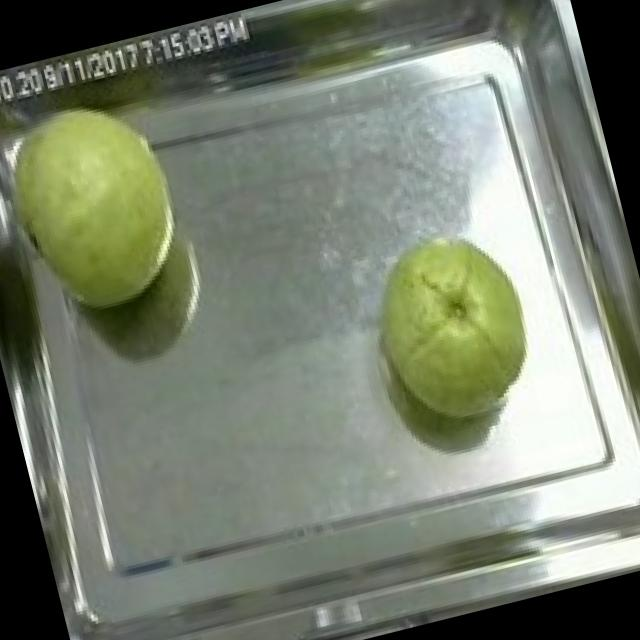Fruit: (0, 74, 207, 335), (348, 209, 562, 446)
